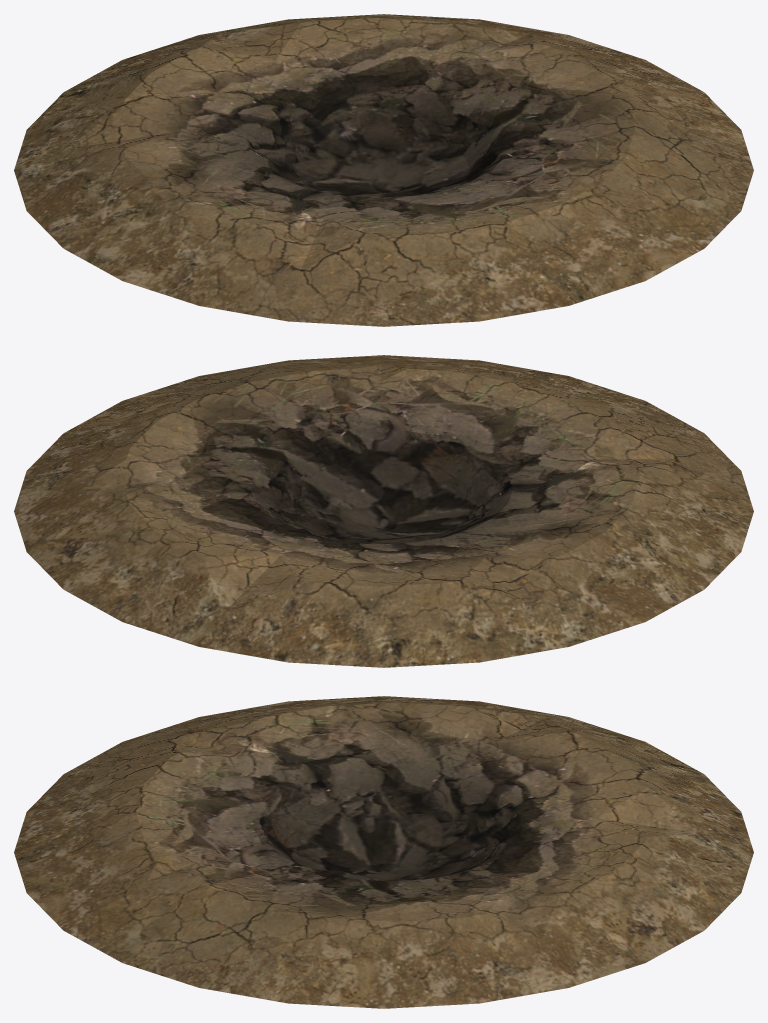
File: PhoenixForest_Abyss_hole01.FBX
3 views of the same model, one above another, from view 1: azimuth 30°, elevation 25°; view 2: azimuth 150°, elevation 25°; view 3: azimuth 270°, elevation 25° (orthographic).
Parts seen in each view (by area): view 1: Object151; view 2: Object151; view 3: Object151.
Boxes of the visible parts, left/top/right/bottom form: Object151: left=14, top=14, right=753, bottom=326; Object151: left=14, top=355, right=753, bottom=667; Object151: left=14, top=696, right=753, bottom=1008.
Size of the model in its own units: 2032 by 176 by 2032.
Materials: 1 (1 with a texture image).
